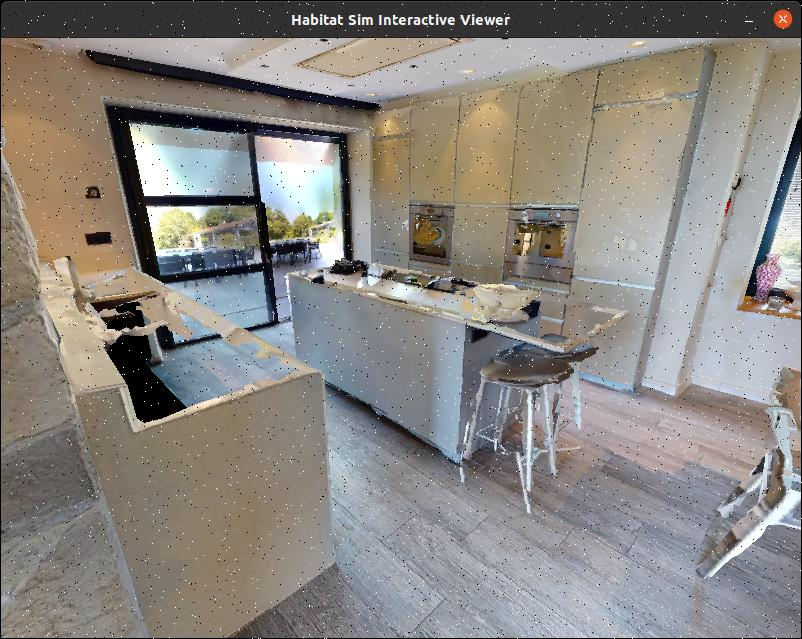chair: (463, 337, 569, 508)
table: (293, 255, 624, 459)
